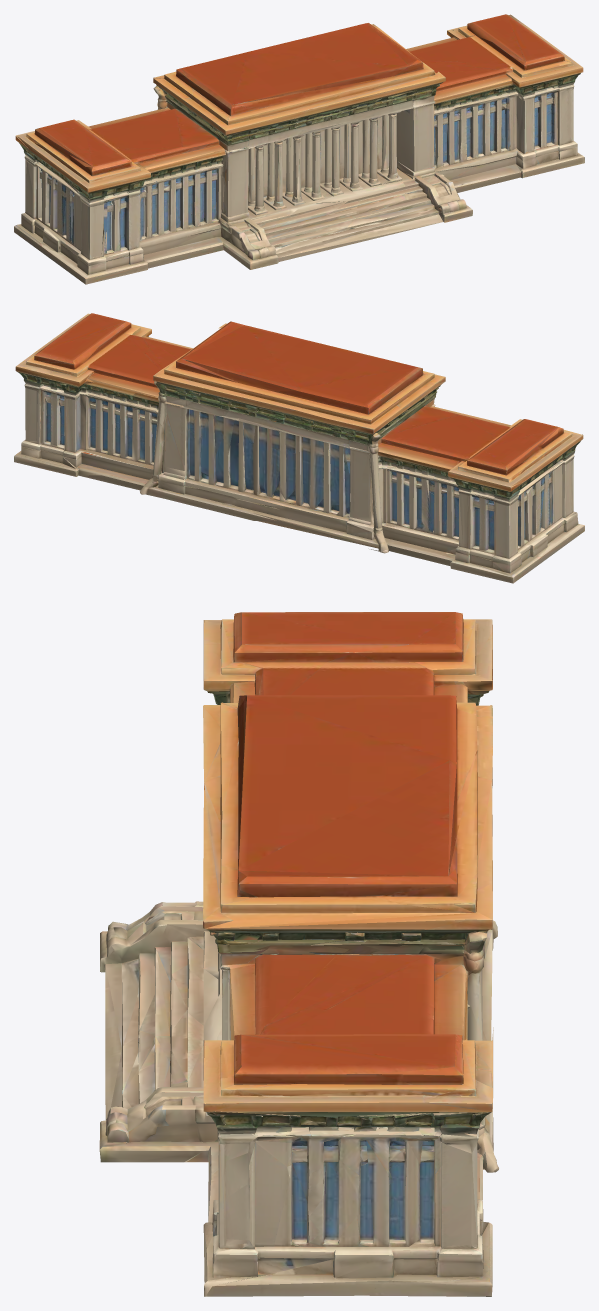
Rendered from upm_mv3ppqe75cf.glb.
3 views of the same model, one above another, from view 1: azimuth 30°, elevation 25°; view 2: azimuth 150°, elevation 25°; view 3: azimuth 270°, elevation 25° (orthographic). The views are drawn at different scales.
Size of the model in its own units: 1.9 by 0.4883 by 0.6592.
1 material, 1 textured.
